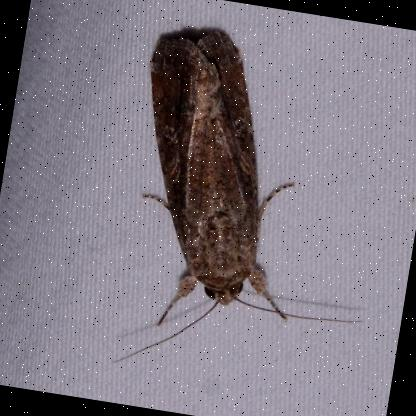Fall Armyworm Moth: (98, 17, 408, 404)
